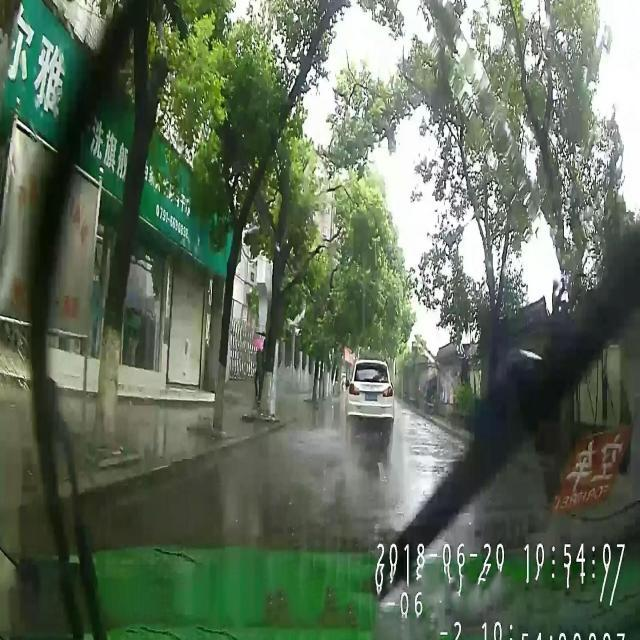car: (345, 360, 394, 444)
